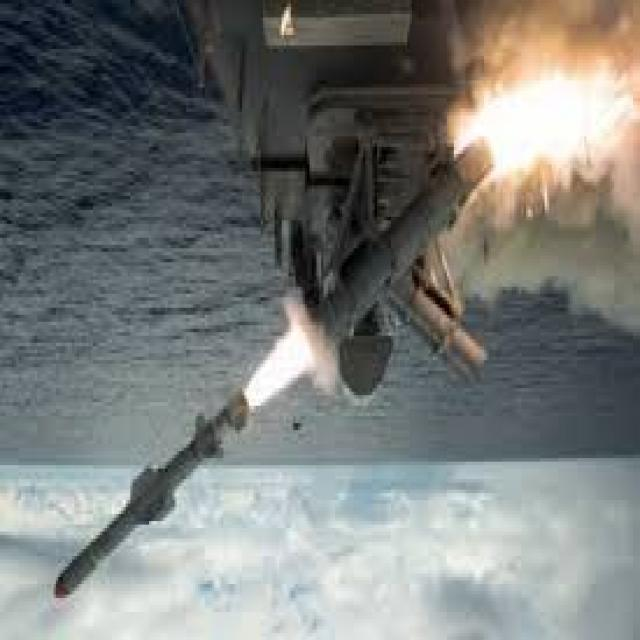missile: (48, 386, 258, 608)
